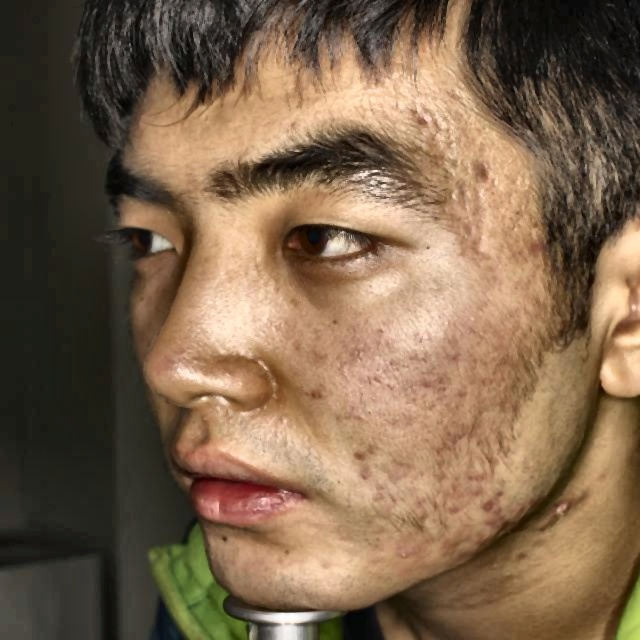pustule: (399, 99, 439, 141), (514, 226, 554, 268), (552, 492, 588, 520), (451, 218, 483, 247), (385, 543, 423, 567), (473, 157, 503, 187), (341, 442, 377, 464), (300, 381, 325, 407), (483, 486, 506, 512), (438, 532, 461, 557), (480, 513, 510, 532), (467, 536, 483, 550)
